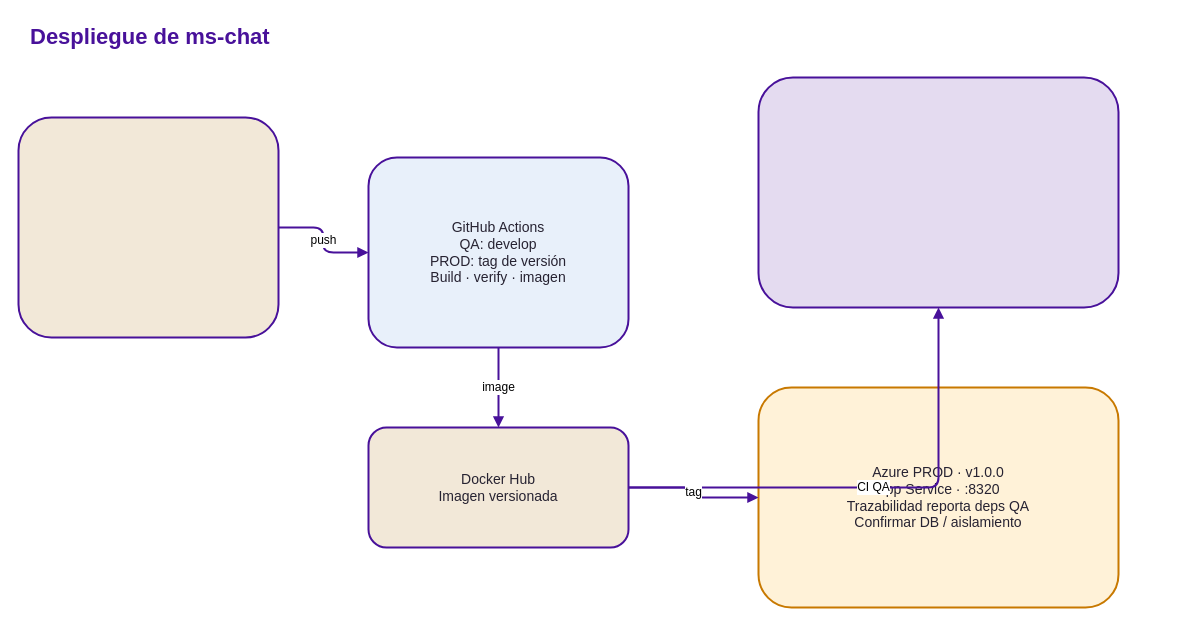
Image size: 1185x625. Some labels were removed from this diagram. The centre of each missing label's shape, as x and y in pixels:
Azure QA App Service · :8320 PostgreSQL QA RabbitMQ AMQPS 5671 Redis opcional: the point at 938,192
Desarrollo local Docker Compose · app :8320 PostgreSQL · RabbitMQ Redis opcional: the point at 148,227
